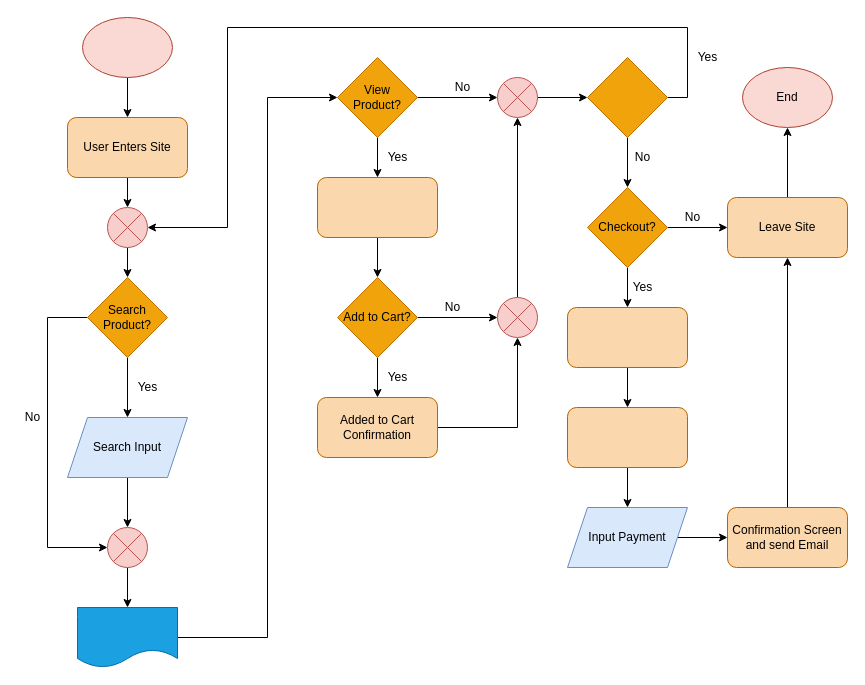
The diagram is 865 pixels wide and 685 high, and some of its shapes have lost their labels. Here are the shapes that lost their labels. From the top down, the centre of each, then its label:
the point at 127,47: Start
the point at 627,97: Continue Shopping?
the point at 377,207: Product Webpage Open
the point at 627,337: View Cart Screen
the point at 627,437: View Payment Screen
the point at 127,637: Products
